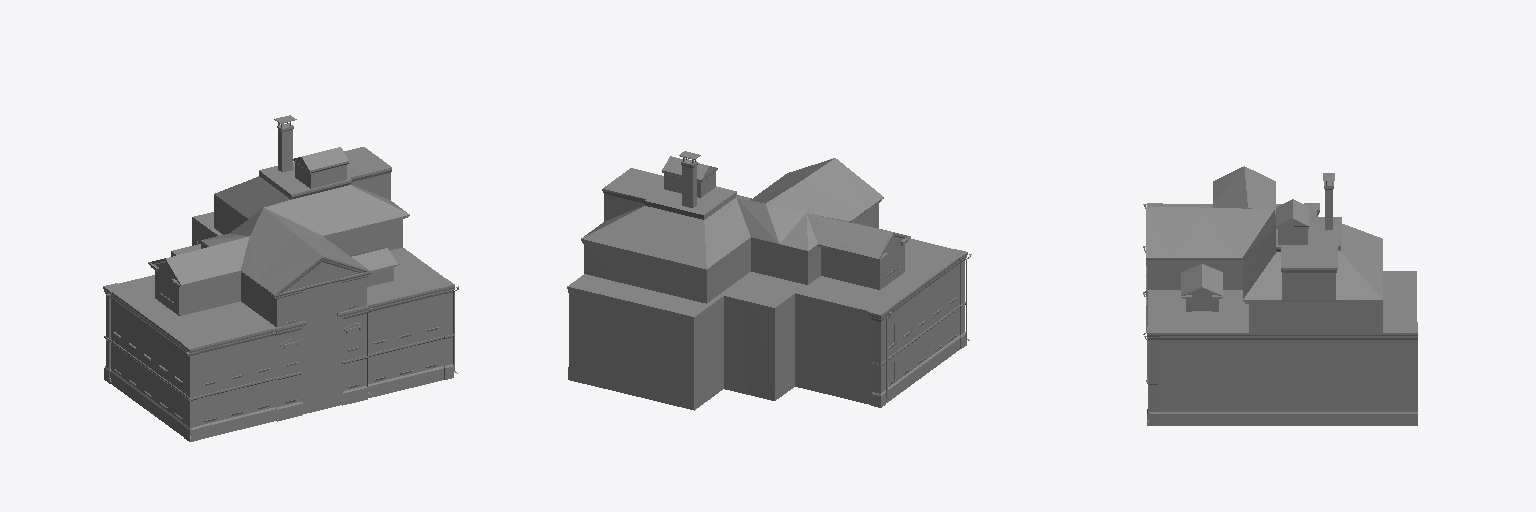
The model's file is House_2.obj.
The picture shows the model from 3 angles: view 1: azimuth 30°, elevation 25°; view 2: azimuth 150°, elevation 25°; view 3: azimuth 270°, elevation 25°; orthographic projection.
Size of the model in its own units: 3.08 by 2.28 by 2.69.